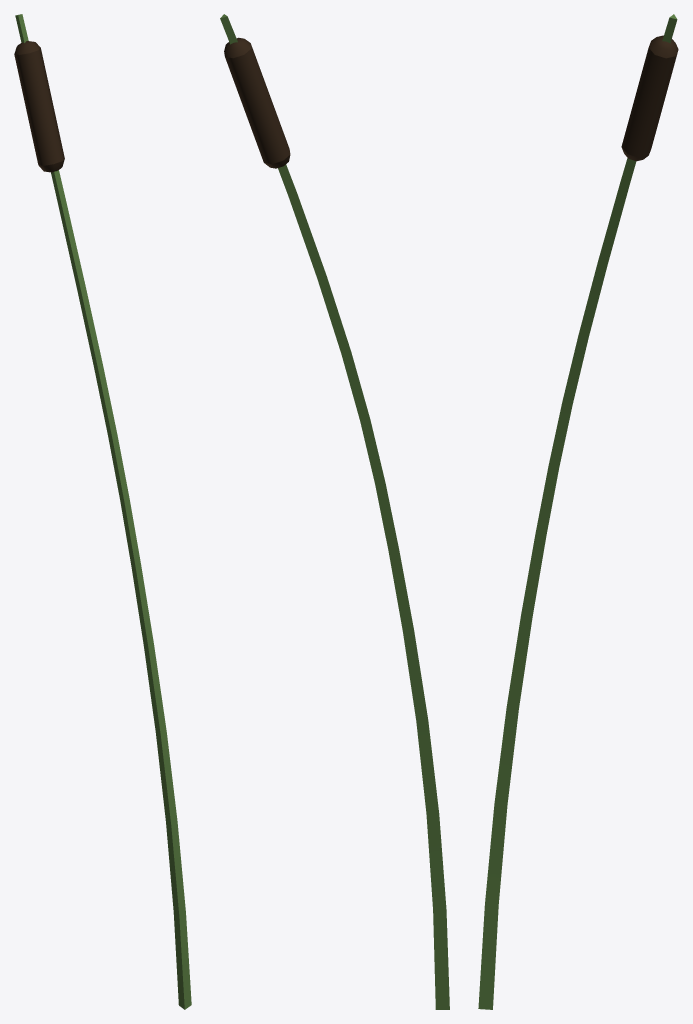
The model's file is plant_cattail_solo_C_twig.fbx.
The picture shows the model from 3 angles, left to right: view 1: azimuth 90°, elevation 25°; view 2: azimuth 150°, elevation 25°; view 3: azimuth 270°, elevation 25°; orthographic projection. The views are drawn at different scales.
Parts seen in each view (by area): view 1: plant_cattail_solo_C_twig, plant_cattail_solo_C_leaf; view 2: plant_cattail_solo_C_twig, plant_cattail_solo_C_leaf; view 3: plant_cattail_solo_C_twig, plant_cattail_solo_C_leaf.
Part boxes in pixels (x1,y1,x2,y2): plant_cattail_solo_C_twig: [15, 14, 191, 1009]; plant_cattail_solo_C_leaf: [14, 41, 64, 172]; plant_cattail_solo_C_twig: [220, 14, 449, 1009]; plant_cattail_solo_C_leaf: [224, 37, 290, 168]; plant_cattail_solo_C_twig: [478, 14, 677, 1009]; plant_cattail_solo_C_leaf: [621, 35, 678, 161].
Size of the model in its own units: 27.73 by 197 by 33.88.
